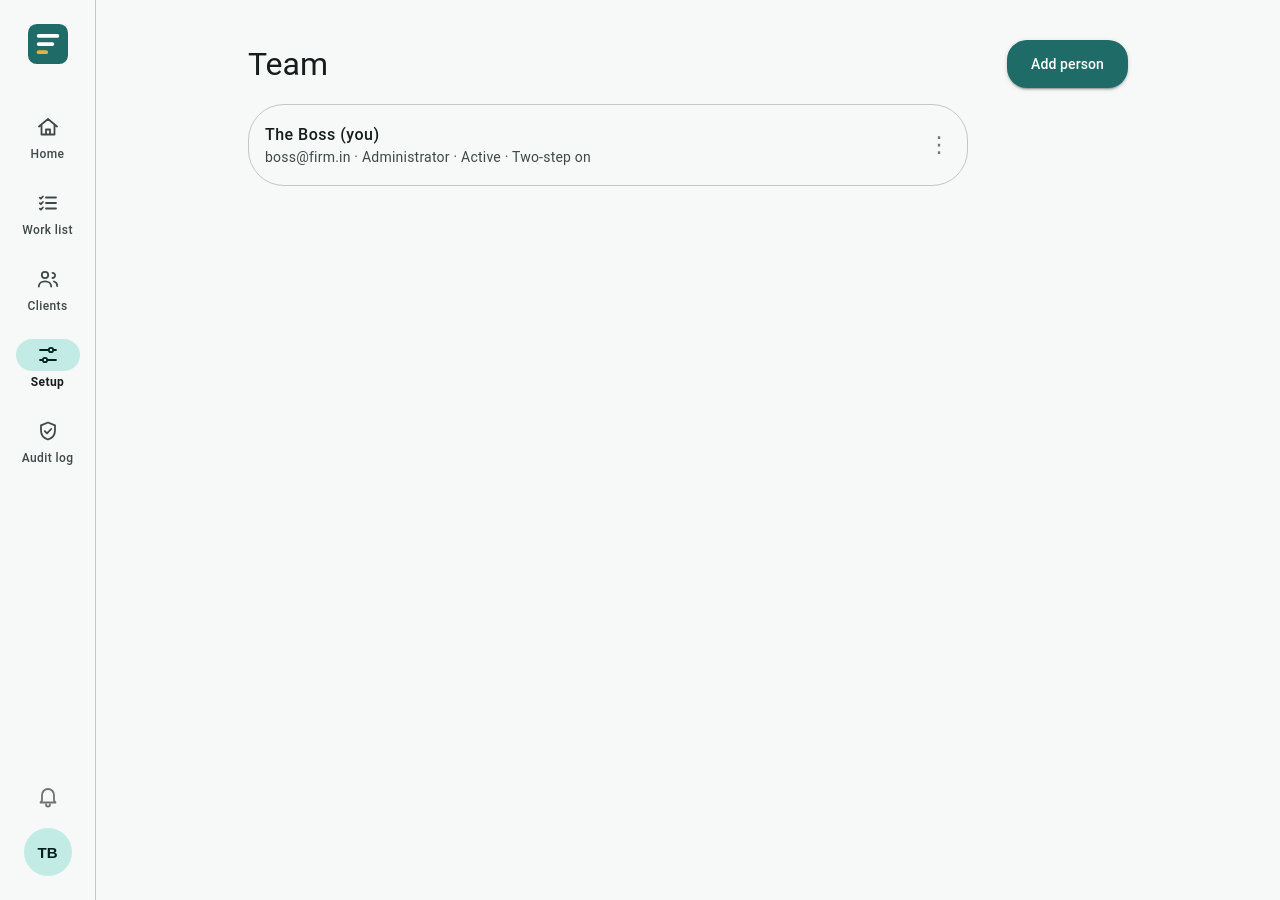
Test case: Team screen › offers no actions on your own account
What coordinates should you click on to do the following:
click the button named "Actions for The Boss"
I would click on:
 (939, 145)
Its box is [915,121,963,169].
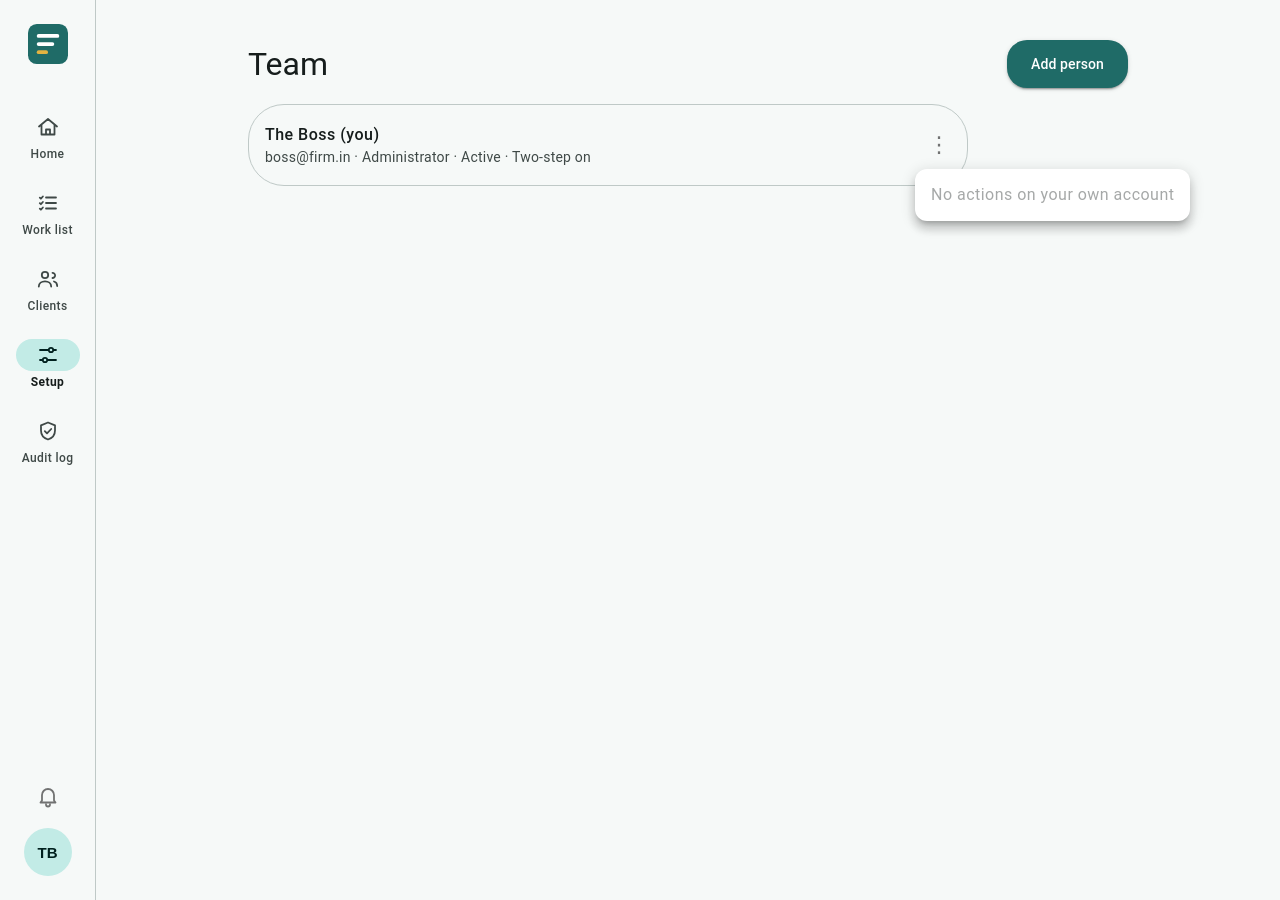
Expected: the menu item "No actions on your own account" is shown, [931,185,1174,204]
